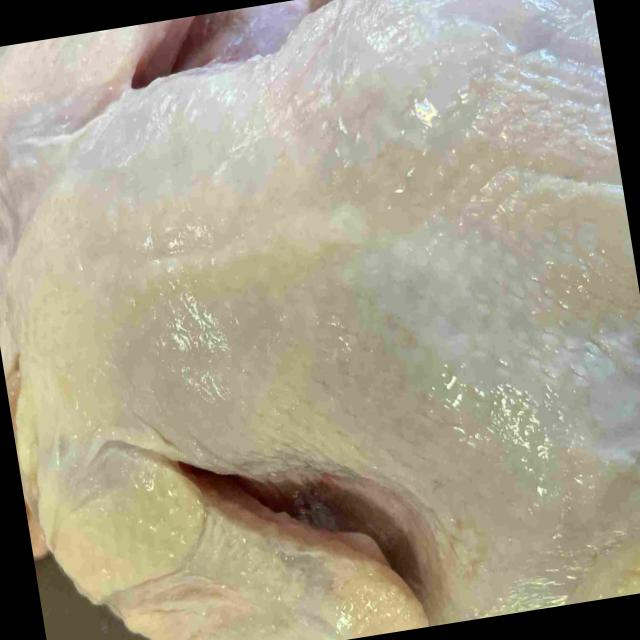back: (61, 0, 640, 534)
leg: (427, 531, 640, 626)
neck: (0, 271, 47, 558)
wing: (37, 441, 430, 640), (0, 15, 197, 141)
